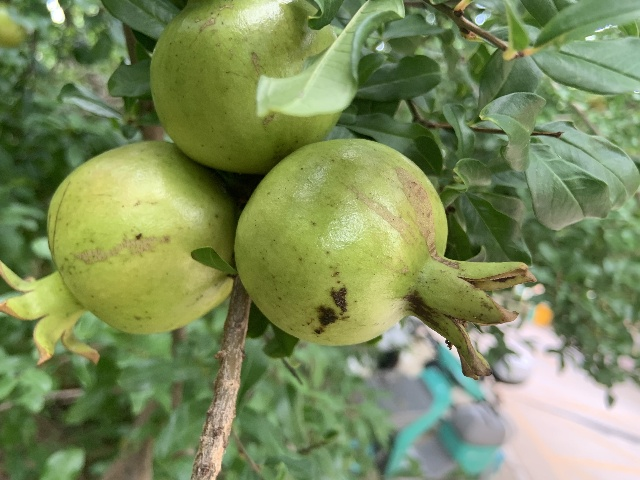mid-growth: (235, 137, 536, 378), (0, 141, 236, 370), (150, 0, 342, 174)
